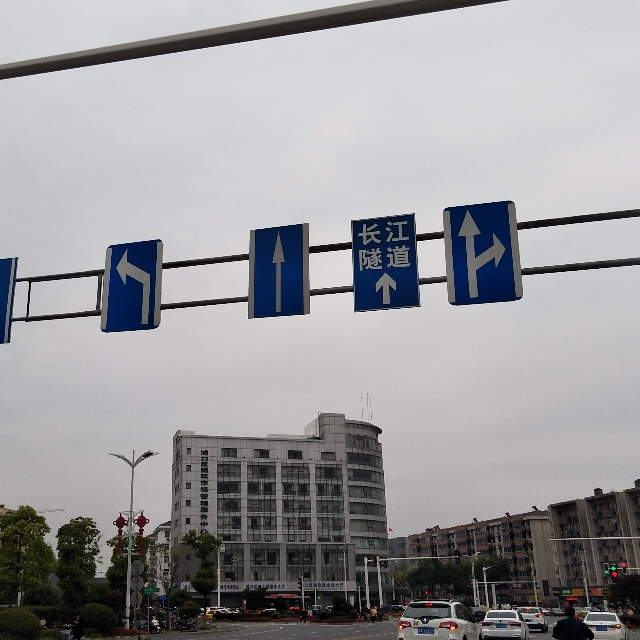left: (101, 238, 162, 336)
straight: (249, 224, 314, 324)
